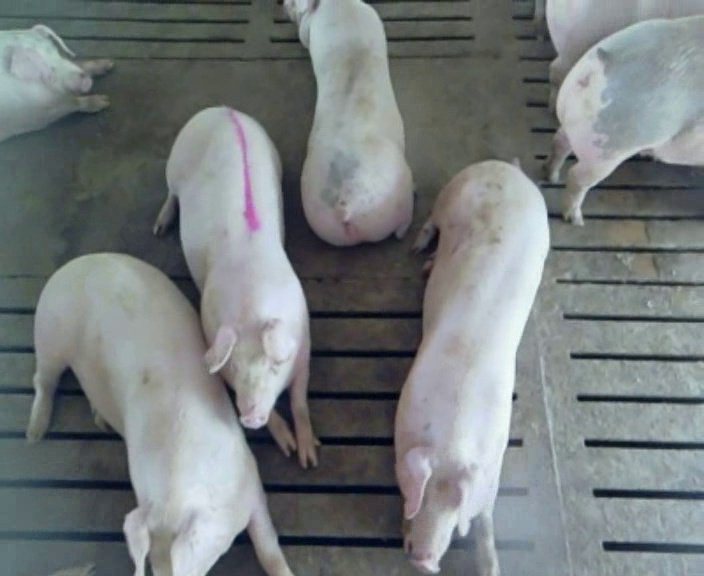pig: (28, 254, 290, 574), (395, 161, 548, 573), (154, 107, 317, 466), (285, 2, 412, 245), (547, 1, 703, 108), (0, 25, 112, 140)
